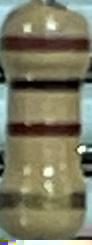Black: (6, 75, 82, 95)
Brown: (0, 34, 89, 56), (6, 118, 83, 139)
Side-Silver: (0, 190, 85, 214)
